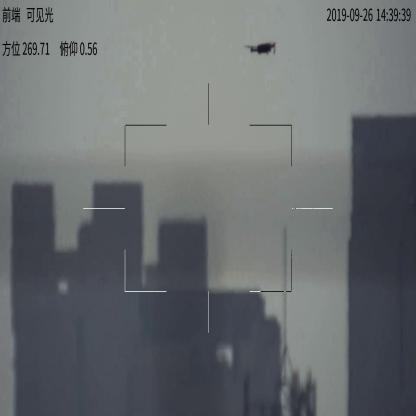uav: (245, 40, 278, 56)
